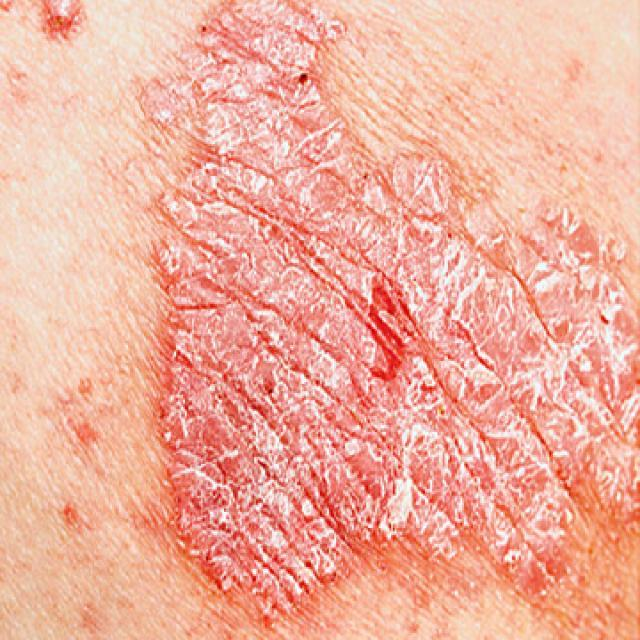Psoriasis: (126, 0, 638, 638), (0, 0, 94, 46)
